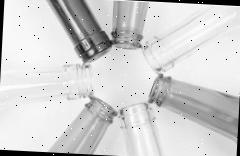glass: (16, 0, 240, 156)
